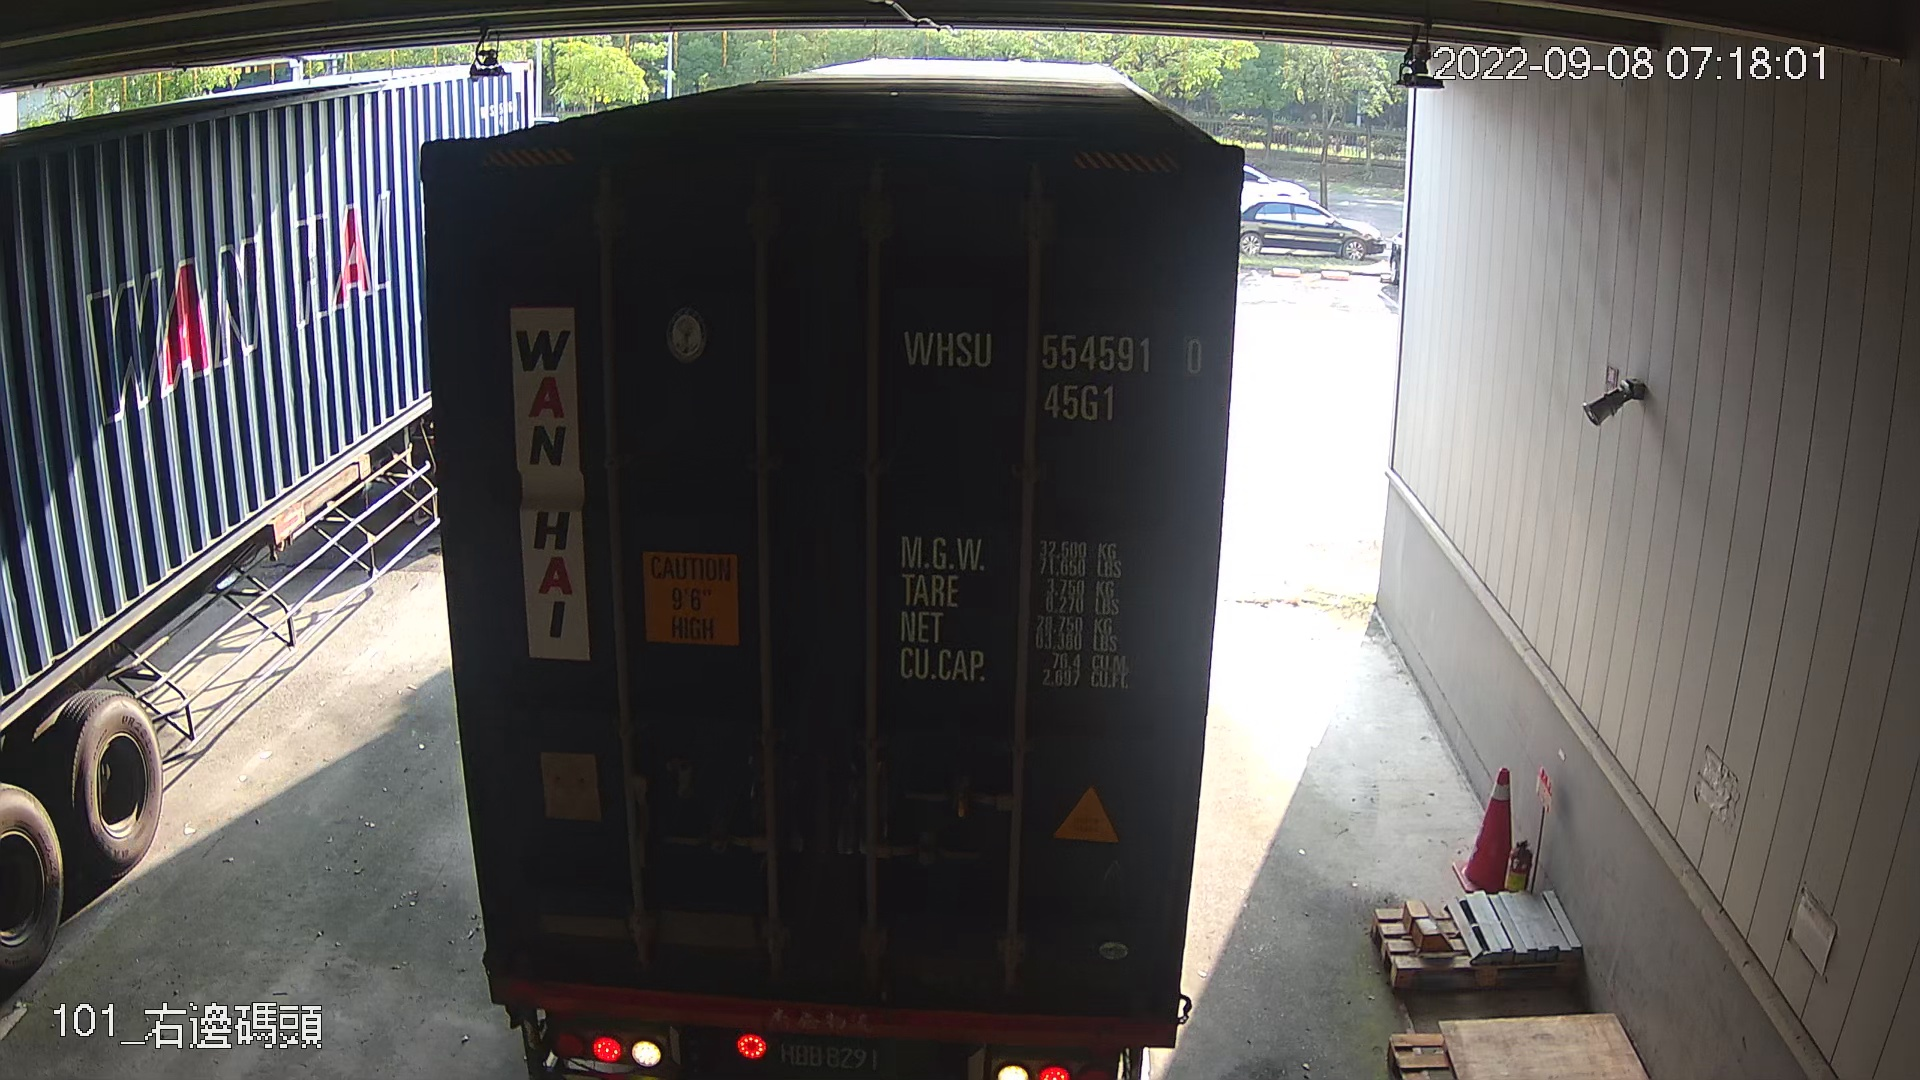container: (895, 313, 1212, 429)
